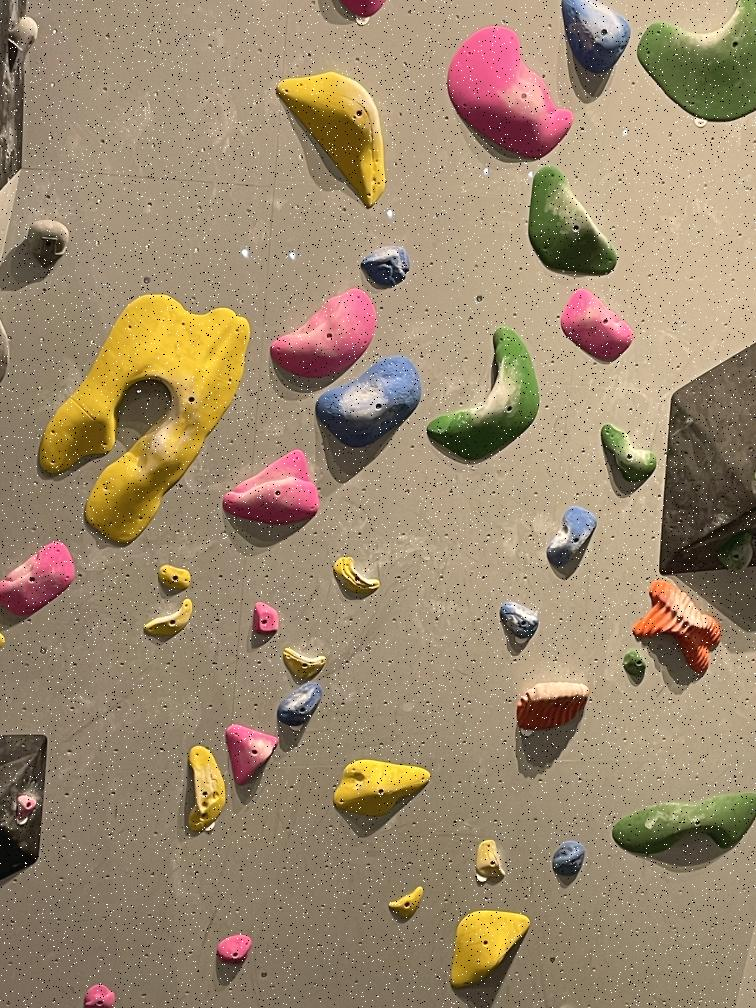Crimp: (0, 542, 77, 618), (329, 554, 383, 599), (142, 599, 197, 639), (284, 646, 332, 678), (473, 840, 509, 882), (390, 885, 422, 919)
Edges: (454, 912, 530, 992)
Foothold: (83, 985, 119, 1008), (623, 650, 648, 678), (15, 794, 36, 820)
Hand-holds: (224, 723, 283, 791)
Jug: (186, 744, 225, 834), (519, 682, 587, 727), (28, 218, 70, 265), (715, 541, 756, 573)
Pinch: (598, 422, 661, 485), (542, 506, 602, 568), (251, 602, 279, 638)
Sloper: (37, 291, 254, 545), (440, 24, 578, 162), (262, 70, 392, 214), (420, 324, 547, 469), (636, 0, 755, 124), (521, 165, 628, 281), (302, 357, 428, 451), (265, 287, 383, 381), (628, 575, 726, 675), (610, 792, 756, 856), (221, 453, 320, 524), (554, 286, 636, 367), (332, 760, 430, 818), (560, 0, 630, 74), (491, 602, 546, 644), (363, 247, 412, 287), (280, 684, 315, 726), (553, 840, 588, 876), (215, 937, 251, 963), (160, 566, 194, 590)
